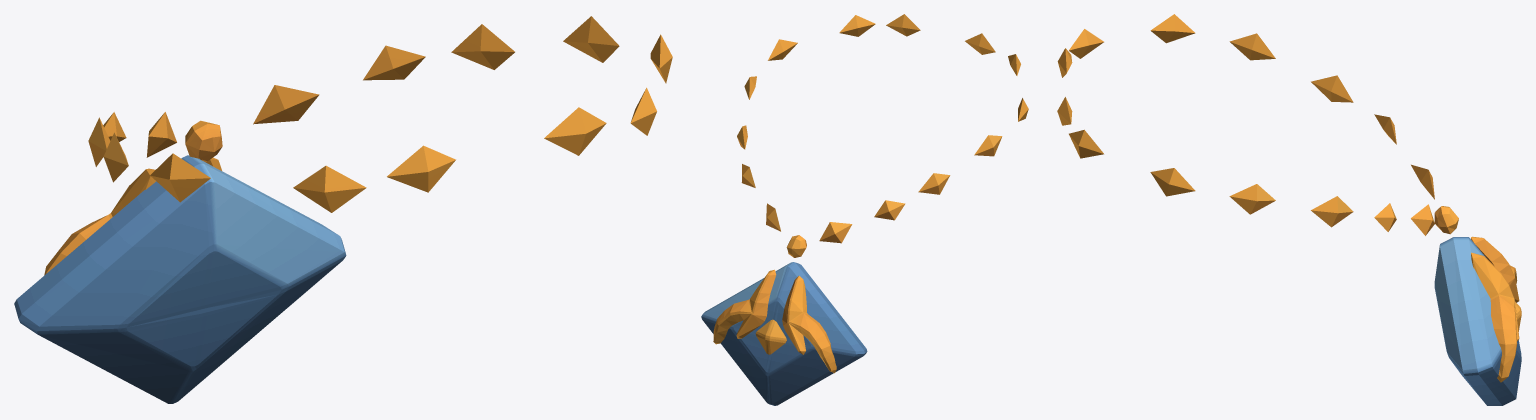
Rendered from CharSkyKid_Neck_AP29Pendant.glb.
3 views of the same model, side by side, from view 1: azimuth 30°, elevation 25°; view 2: azimuth 150°, elevation 25°; view 3: azimuth 270°, elevation 25° (orthographic). The views are drawn at different scales.
Visible parts, largest first — view 1: CharSkyKid_Neck_AP29Pendant; view 2: CharSkyKid_Neck_AP29Pendant; view 3: CharSkyKid_Neck_AP29Pendant.
Boxes of the visible parts, x1,y1,x2,y2 form: CharSkyKid_Neck_AP29Pendant: (14,16,672,403); CharSkyKid_Neck_AP29Pendant: (701,14,1028,405); CharSkyKid_Neck_AP29Pendant: (1057,14,1521,405).
Bounding box in the file's own units: 1.79 × 1.75 × 2.21.
Materials: 1 (1 with a texture image).
